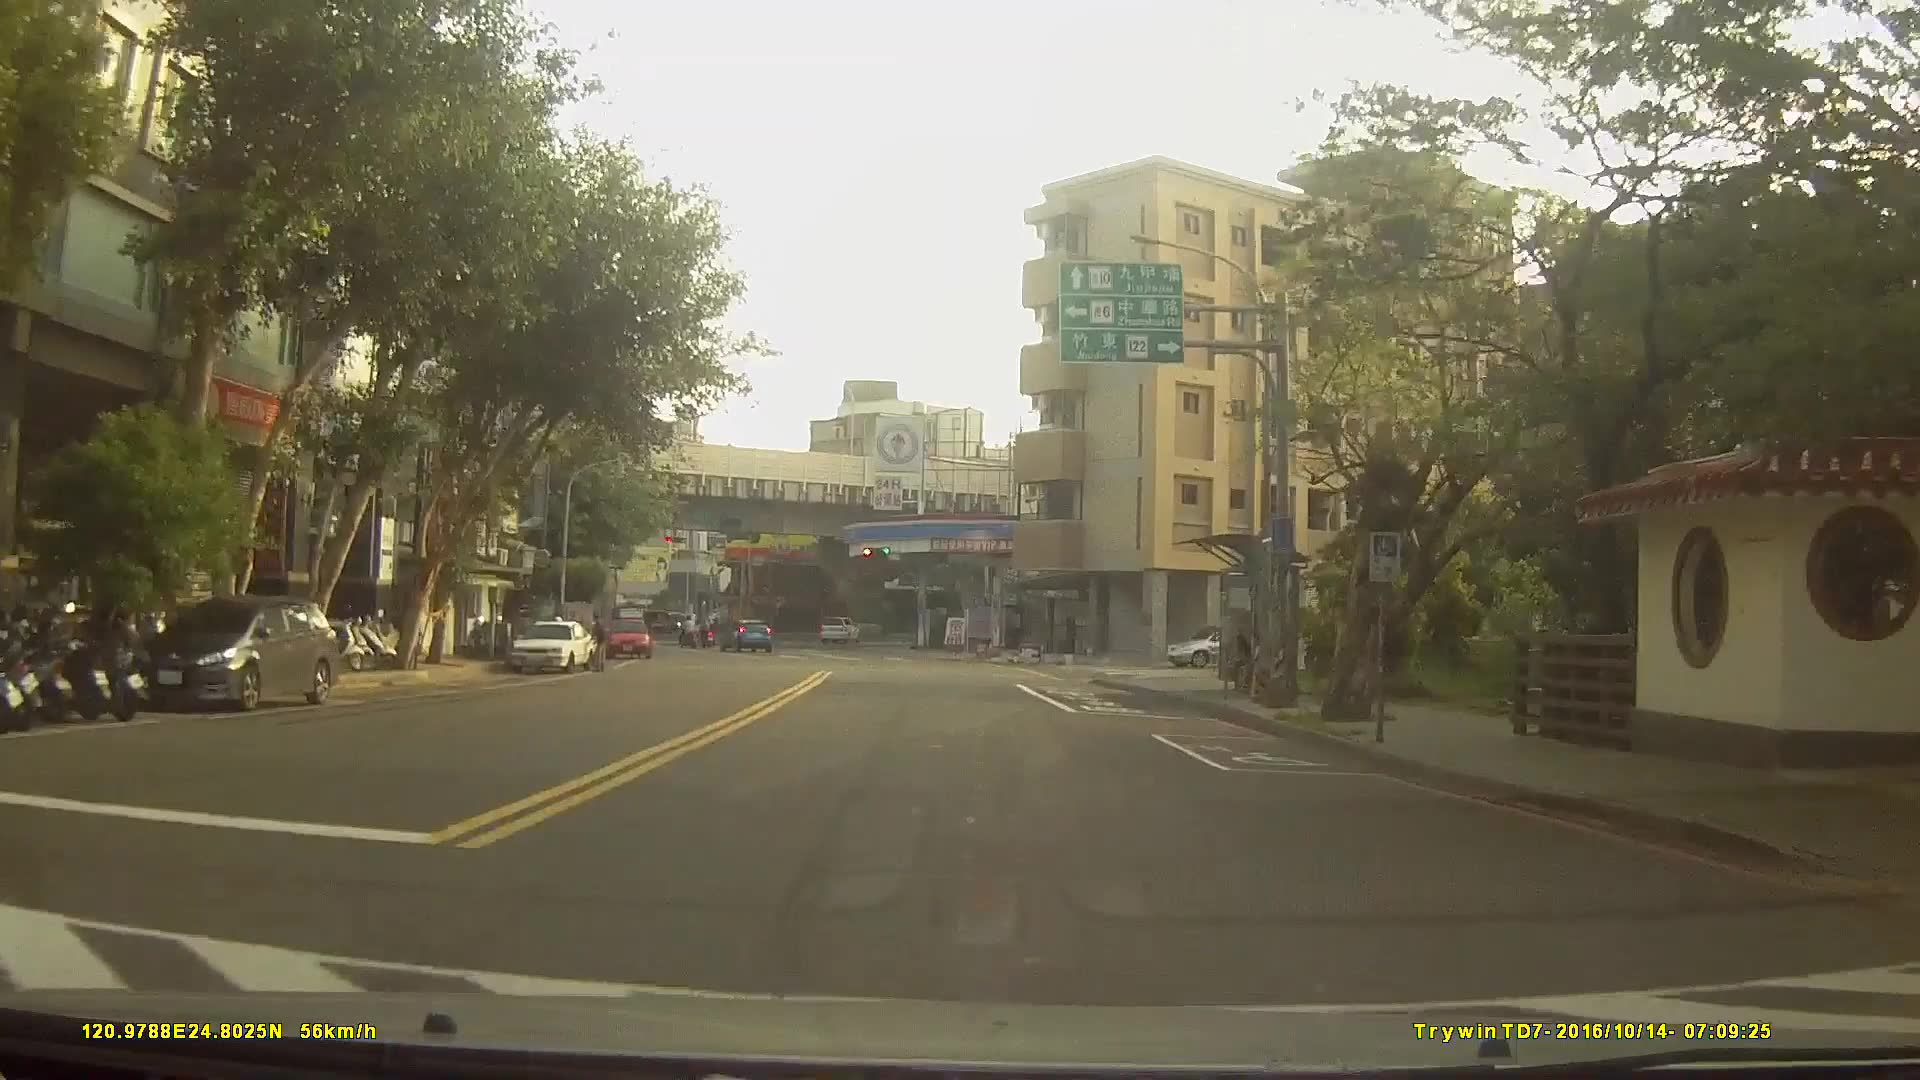rider: (676, 614, 699, 651)
vehicle: (133, 590, 334, 709), (1164, 618, 1278, 668), (509, 618, 596, 673), (604, 613, 650, 659), (720, 615, 773, 651), (820, 613, 861, 641)
